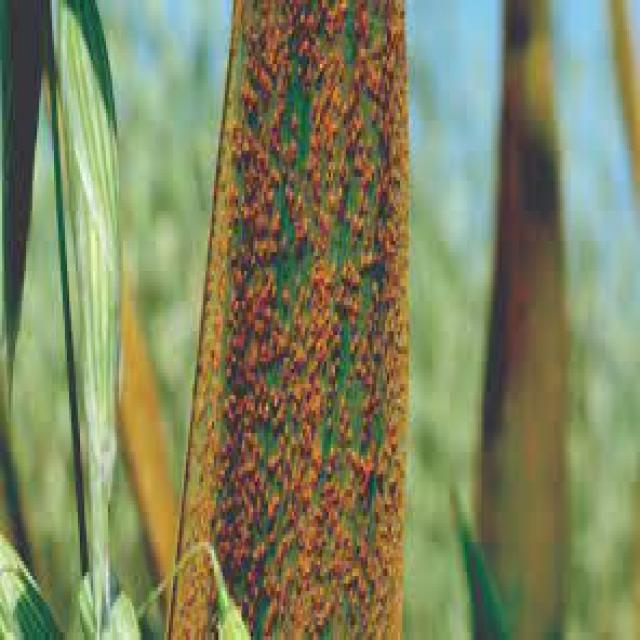leaf rust: (162, 4, 420, 640)
